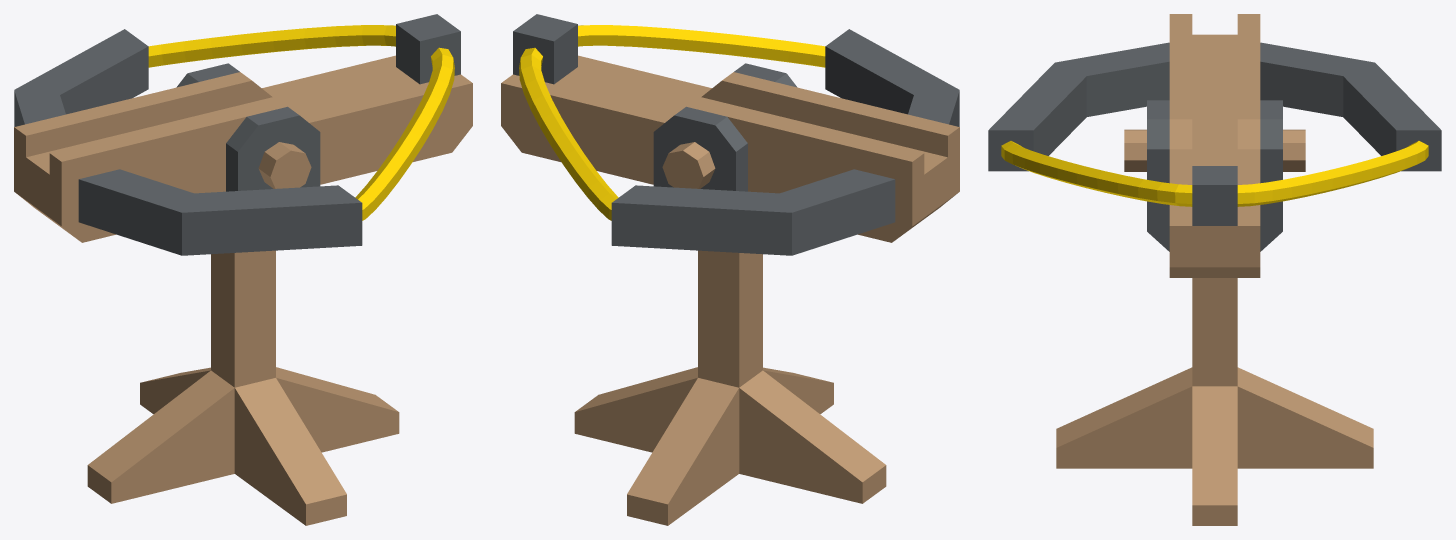
File: tower-ballista.glb
The picture shows the model from 3 angles, left to right: view 1: azimuth 30°, elevation 25°; view 2: azimuth 150°, elevation 25°; view 3: azimuth 270°, elevation 25°; orthographic projection. The views are drawn at different scales.
Parts seen in each view (by area): view 1: Cradle, Foot, Bow, Rope Path, Base, Side Plate, Arrow Block, Axis; view 2: Cradle, Foot, Bow, Rope Path, Base, Side Plate, Arrow Block, Axis; view 3: Foot, Bow, Cradle, Rope Path, Side Plate, Base, Arrow Block, Axis.
Part boxes in pixels (bbox=[...]): Cradle: bbox=[14, 55, 472, 242]; Foot: bbox=[87, 367, 399, 525]; Bow: bbox=[14, 29, 362, 255]; Rope Path: bbox=[148, 25, 454, 220]; Base: bbox=[211, 250, 275, 387]; Side Plate: bbox=[176, 63, 320, 191]; Arrow Block: bbox=[396, 14, 460, 84]; Axis: bbox=[258, 142, 311, 188]; Cradle: bbox=[501, 55, 959, 242]; Foot: bbox=[574, 367, 886, 525]; Bow: bbox=[611, 29, 959, 255]; Rope Path: bbox=[519, 25, 825, 220]; Base: bbox=[698, 250, 762, 387]; Side Plate: bbox=[653, 63, 797, 191]; Arrow Block: bbox=[513, 14, 577, 84]; Axis: bbox=[662, 142, 715, 188]; Foot: bbox=[1056, 367, 1373, 525]; Bow: bbox=[988, 42, 1441, 171]; Cradle: bbox=[1169, 14, 1260, 277]; Rope Path: bbox=[1001, 141, 1428, 206]; Side Plate: bbox=[1147, 100, 1282, 251]; Base: bbox=[1192, 278, 1237, 386]; Arrow Block: bbox=[1192, 166, 1237, 225]; Axis: bbox=[1124, 129, 1305, 171].
Size of the model in its own units: 2 by 1.8 by 2.
